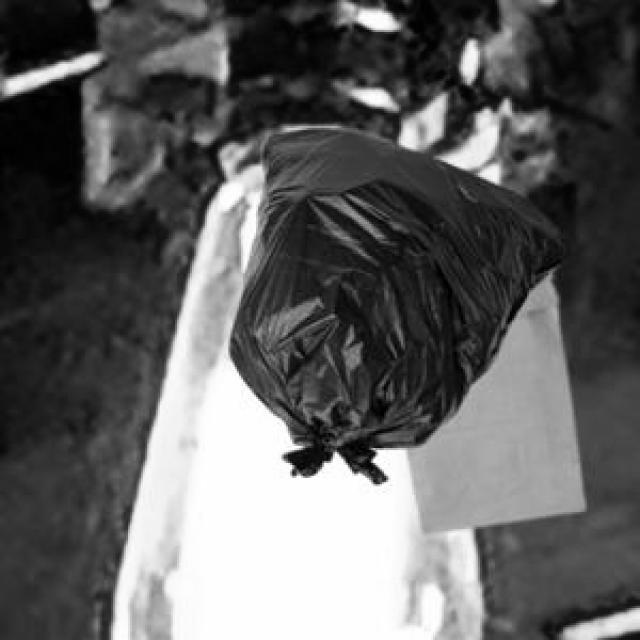miscellaneous trash: (226, 126, 565, 480)
paper: (403, 269, 580, 531)
